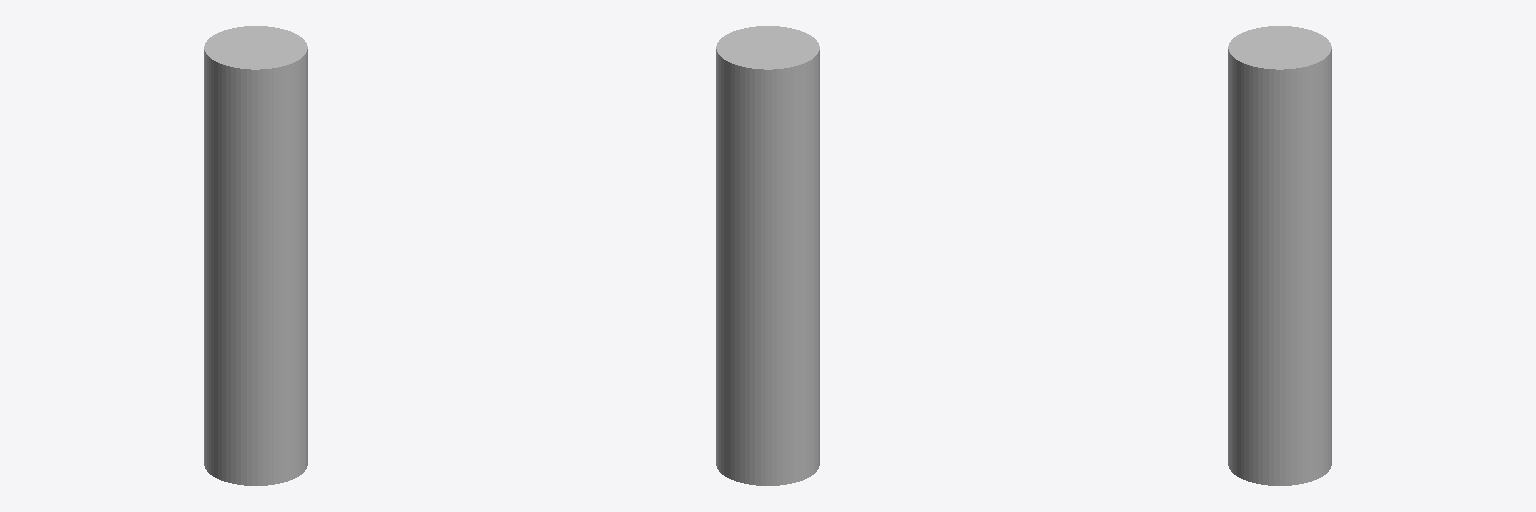
Rendered from Piston Pin.obj.
3 views of the same model, side by side, from view 1: azimuth 30°, elevation 25°; view 2: azimuth 150°, elevation 25°; view 3: azimuth 270°, elevation 25° (orthographic).
Visible parts, largest first — view 1: mesh0, mesh2; view 2: mesh0, mesh2; view 3: mesh0, mesh2.
Boxes of the visible parts, x1=… form: mesh0: x1=204, y1=49, x2=307, y2=485; mesh2: x1=204, y1=26, x2=307, y2=69; mesh0: x1=716, y1=49, x2=819, y2=485; mesh2: x1=716, y1=26, x2=819, y2=69; mesh0: x1=1228, y1=49, x2=1331, y2=485; mesh2: x1=1228, y1=26, x2=1331, y2=69.
Bounding box in the file's own units: 0.018 × 0.08 × 0.018.